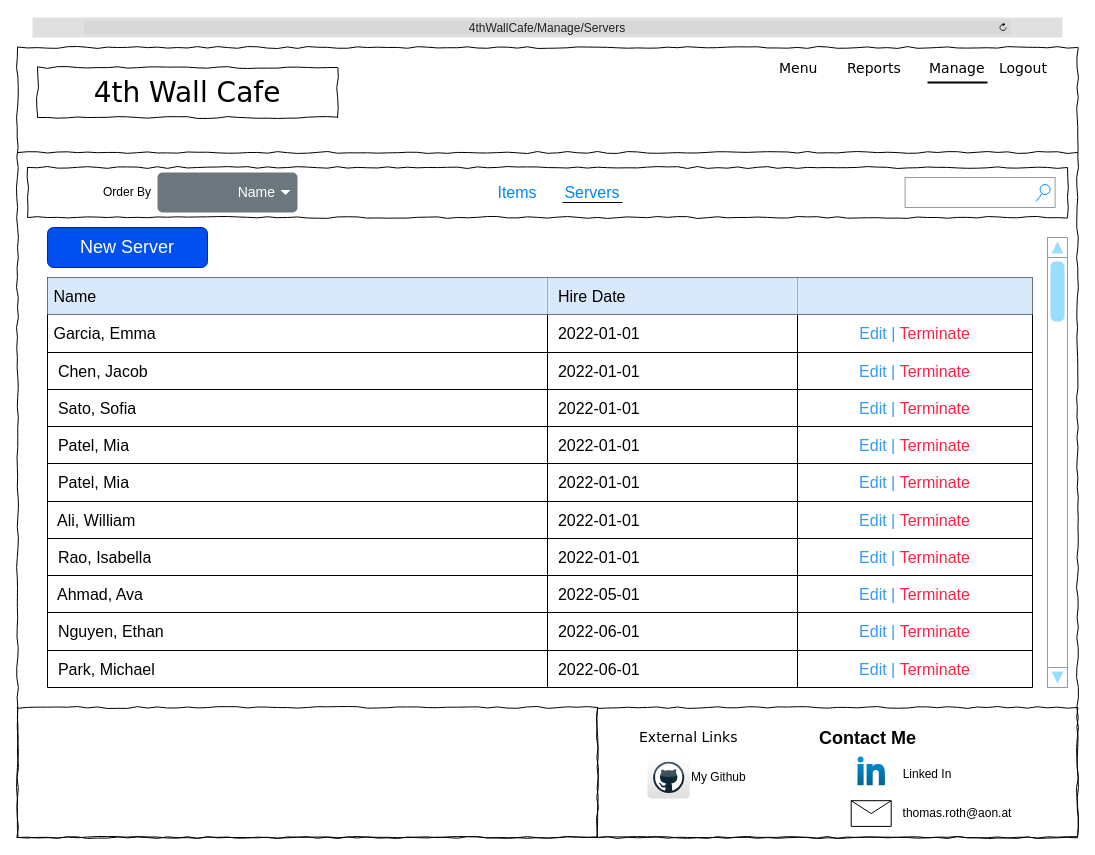
This 1095x855 diagram has some shape labels left out. The box of each missing label's shape, as (x1, y1, x2, y2) in pixels:
by Thomas Roth: (16, 706, 598, 838)
Search: (904, 176, 1055, 208)
